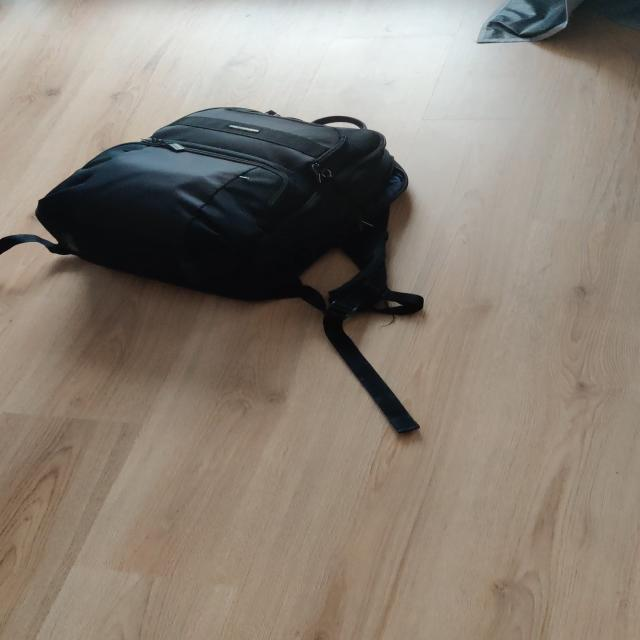backpack: (27, 100, 424, 310)
